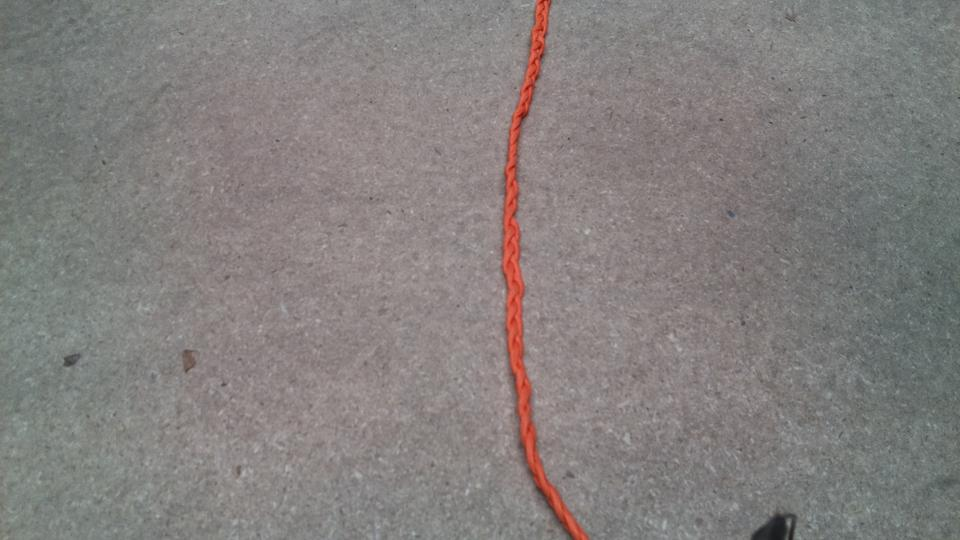rope: (496, 1, 601, 540)
